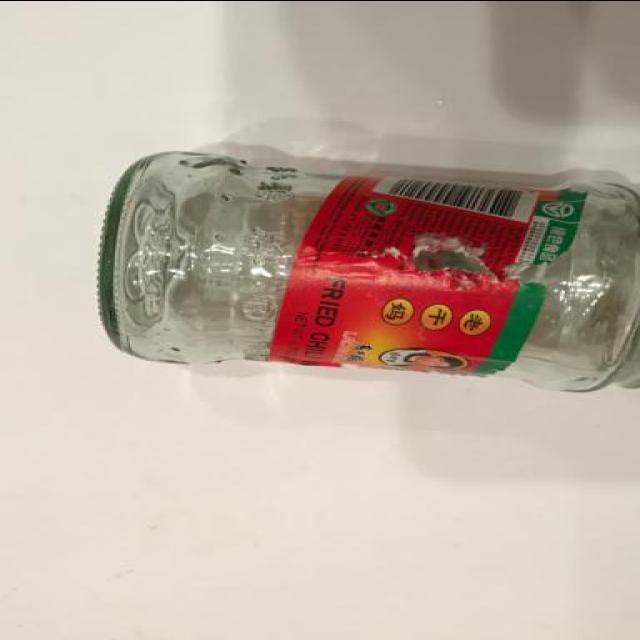litter: (93, 150, 640, 391)
